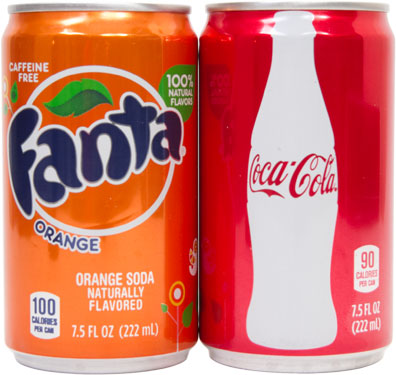fanta: (3, 4, 200, 365)
